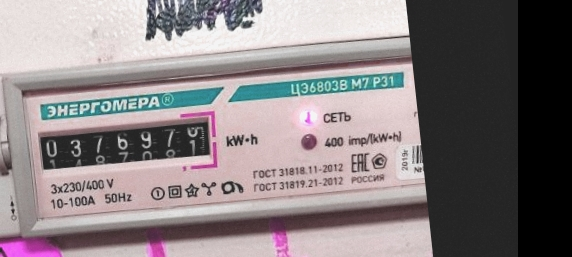0: (43, 137, 58, 158)
1: (186, 137, 199, 156)
3: (67, 136, 82, 157)
6: (114, 128, 129, 150)
7: (90, 132, 105, 154), (162, 125, 176, 148)
9: (138, 128, 152, 150)
screen: (29, 104, 224, 187)
